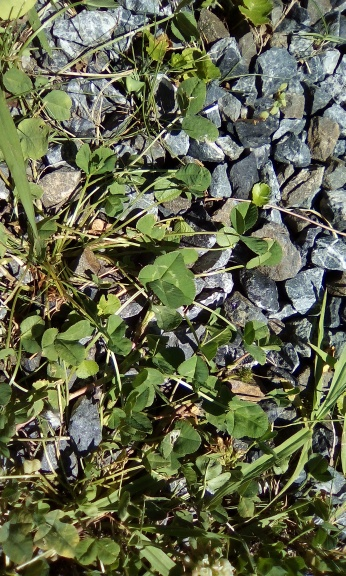4leaf: (137, 251, 196, 309)
